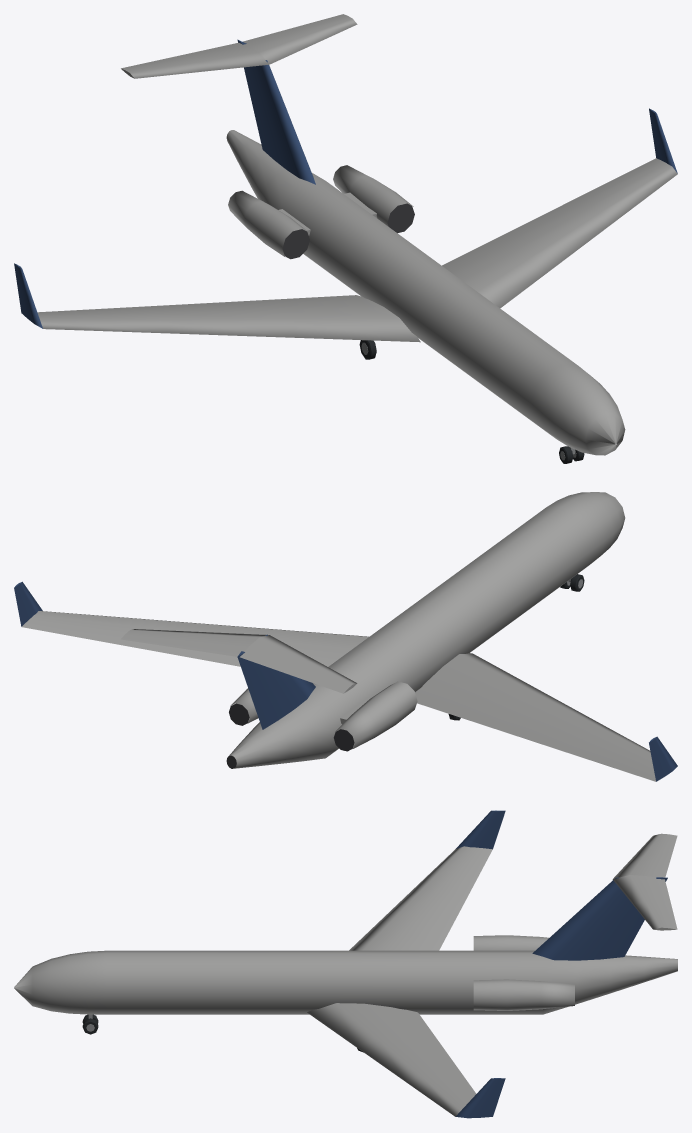
The model's file is bizjet_far.glb.
3 views of the same model, one above another, from view 1: azimuth 30°, elevation 25°; view 2: azimuth 150°, elevation 25°; view 3: azimuth 270°, elevation 25° (orthographic). The views are drawn at different scales.
Parts seen in each view (by area): view 1: paint-body, trim-body, fan-body; view 2: paint-body, trim-body, fan-body; view 3: paint-body, trim-body.
Part boxes in pixels (x1,y1,x2,y2): paint-body: (37, 14, 677, 455); trim-body: (14, 39, 677, 328); fan-body: (282, 203, 414, 259); paint-body: (22, 492, 655, 781); trim-body: (14, 581, 677, 781); fan-body: (226, 703, 354, 768); paint-body: (14, 833, 677, 1116); trim-body: (455, 810, 667, 1118).
Size of the model in its own units: 19.51 by 5.35 by 20.3.
